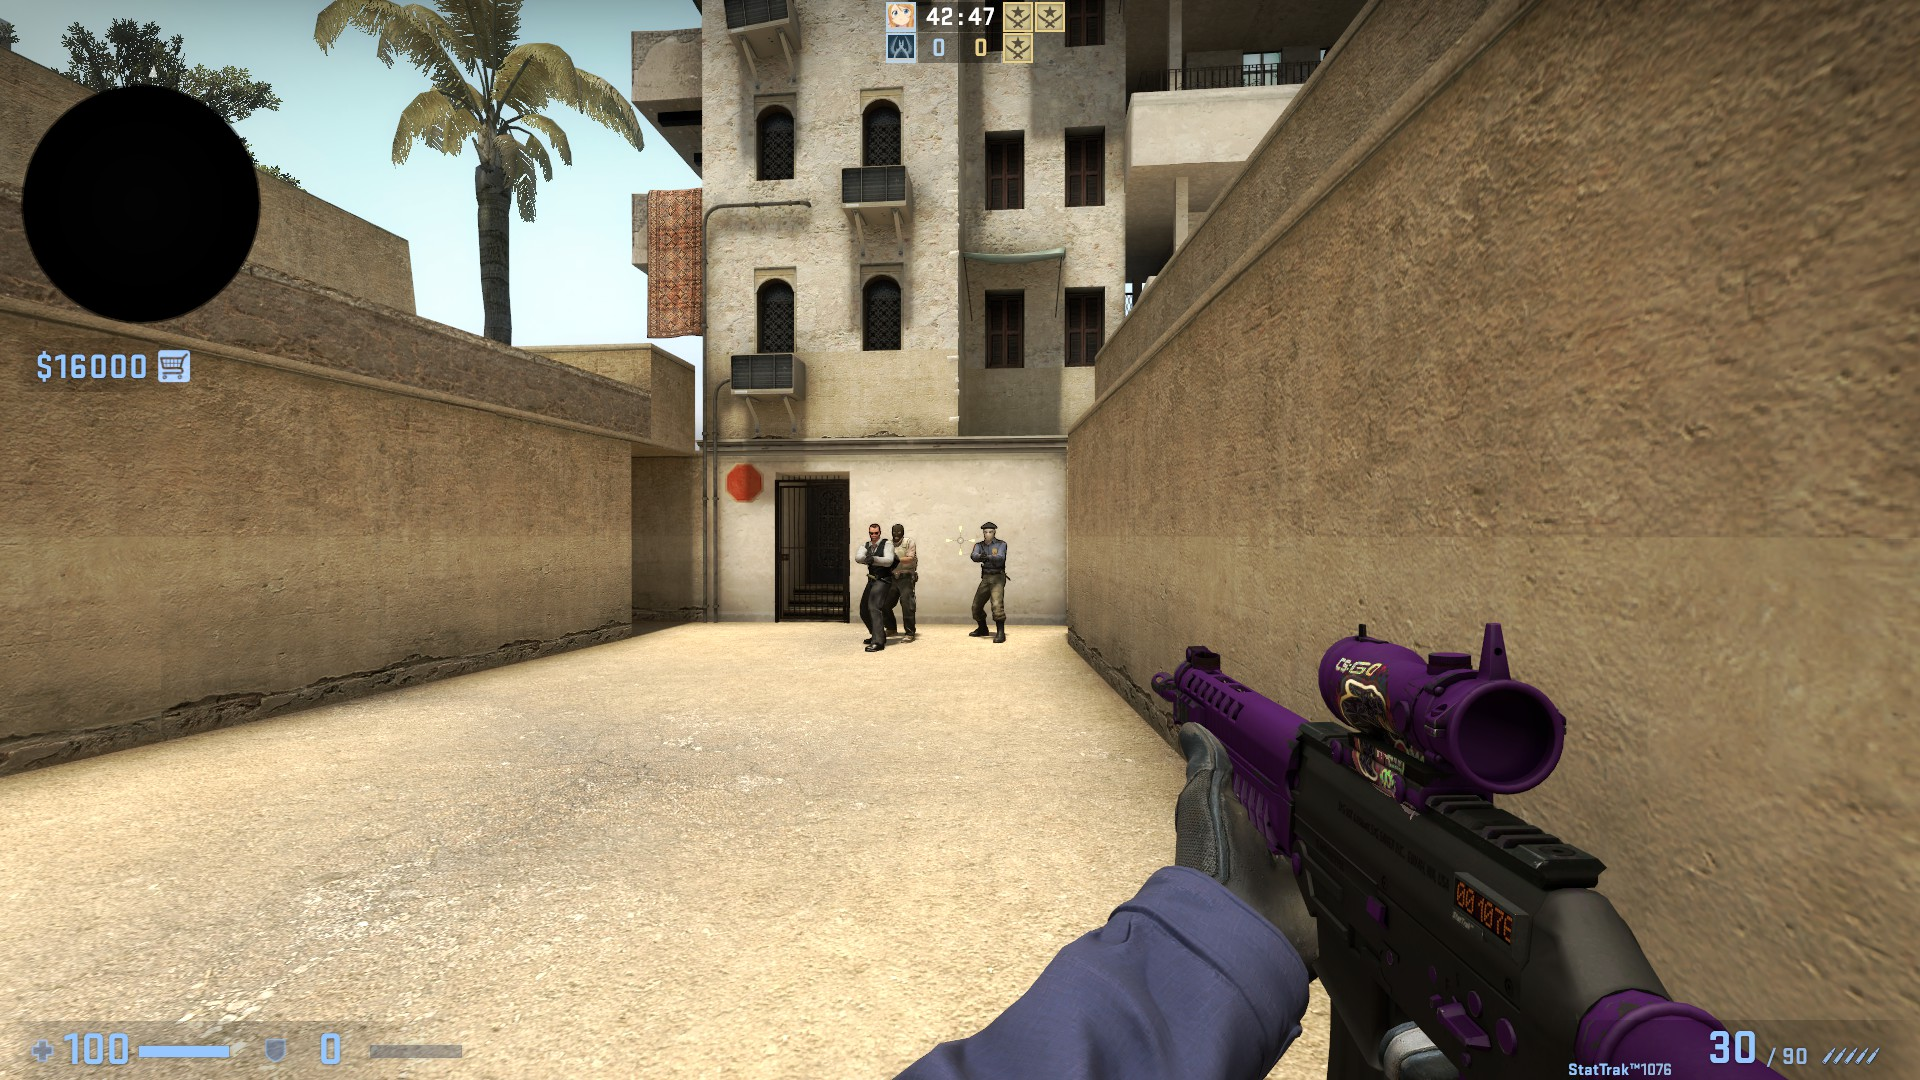head: (978, 520, 997, 547), (889, 522, 905, 544), (865, 522, 880, 543)
